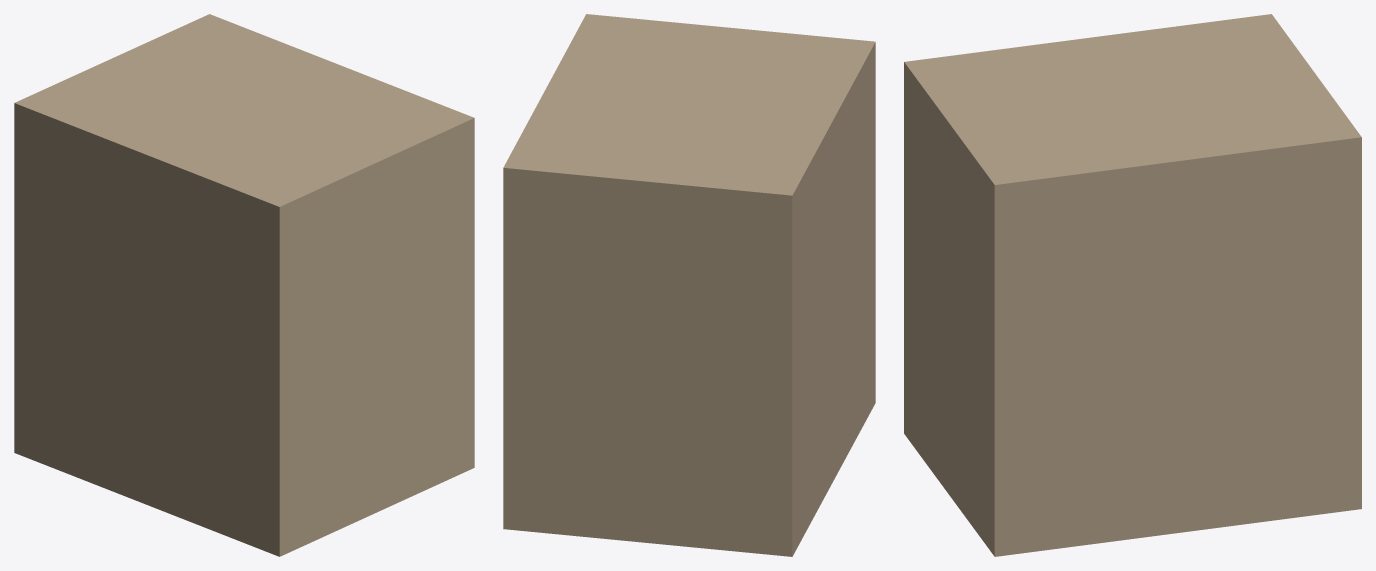
The model's file is bld_105794344.dae.
The picture shows the model from 3 angles, left to right: view 1: azimuth 30°, elevation 25°; view 2: azimuth 150°, elevation 25°; view 3: azimuth 270°, elevation 25°; orthographic projection. The views are drawn at different scales.
Parts seen in each view (by area): view 1: bld_105794344; view 2: bld_105794344; view 3: bld_105794344.
Boxes of the visible parts, <box> form: bld_105794344: <box>14,14,474,556</box>; bld_105794344: <box>503,14,875,556</box>; bld_105794344: <box>904,14,1361,556</box>.
Size of the model in its own units: 7.9 by 8.92 by 8.
